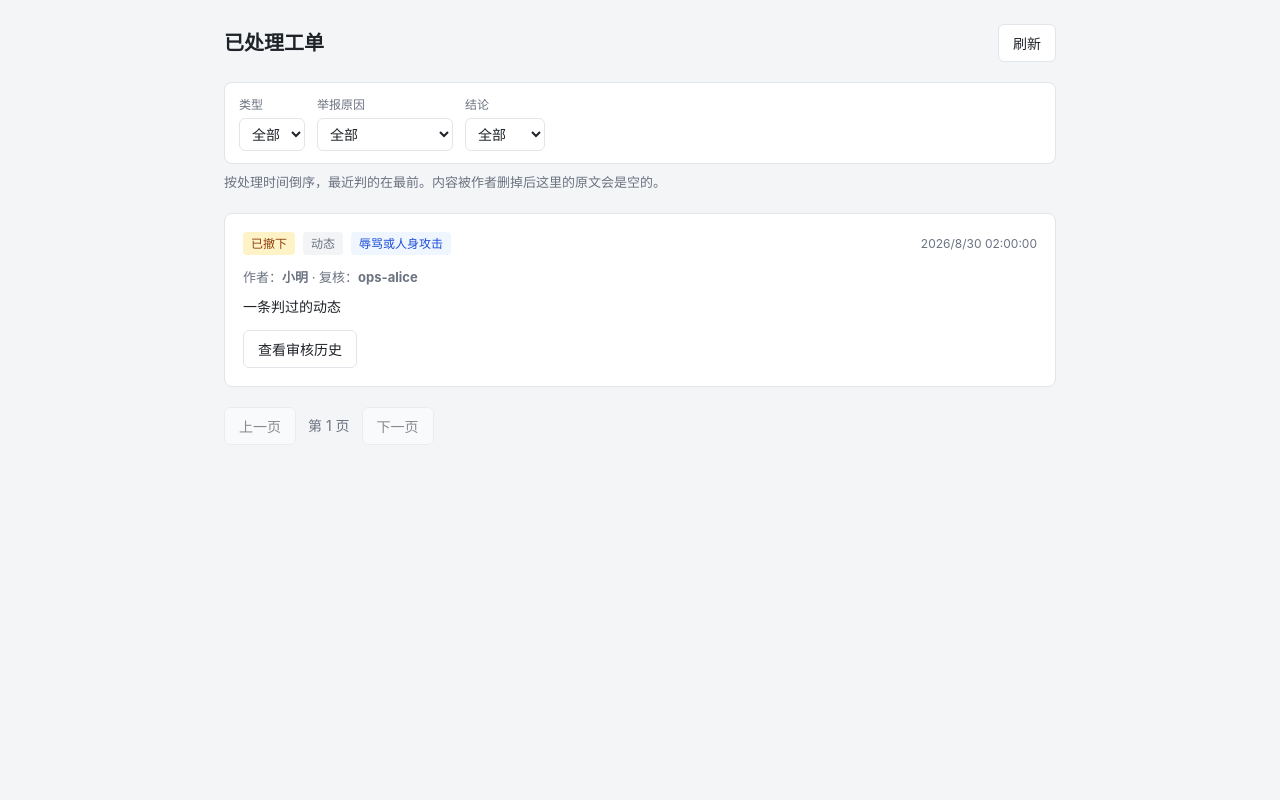
Test: 已处理工单页 › 点「查看审核历史」打开对话框并按目标拉流水
Click the button "查看审核历史": click(300, 349) [243,330,357,368]
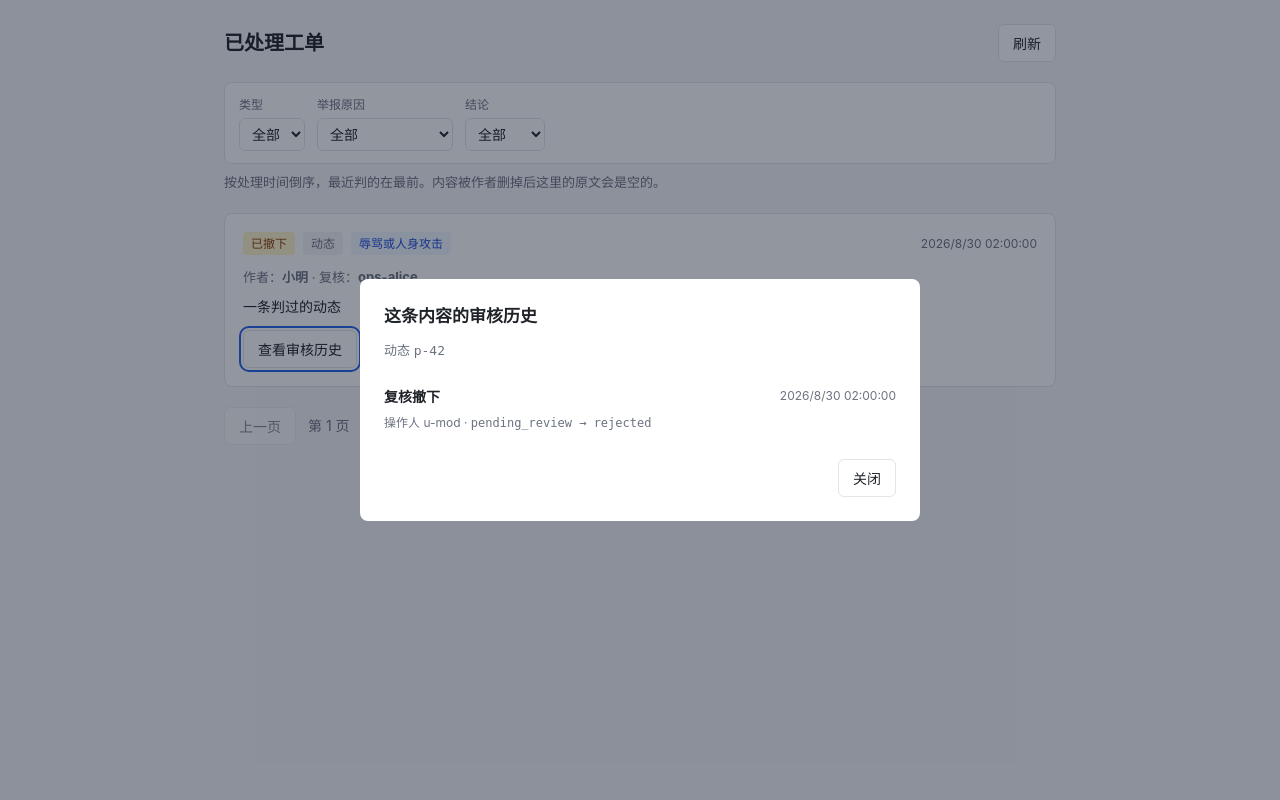
Expected: the dialog is shown, [360,279,920,521]
